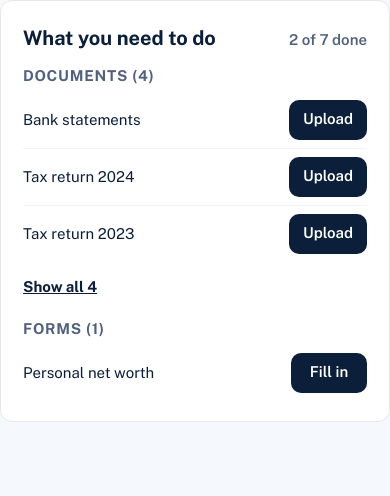
Test case: to-do on a phone › shows progress, then Documents and Forms with three of each until Show all
Expected: the text with test id "action-center-progress" reads "2 of 7 done", x1=289 y1=29 x2=367 y2=52
Expected: the element with test id "action-center-docs" shows "Documents (4)", x1=23 y1=65 x2=367 y2=306
What coordinates should you click on to do the following:
click the button "Show all 4"
I would click on:
 (60, 287)
Its box is x1=23 y1=268 x2=97 y2=306.
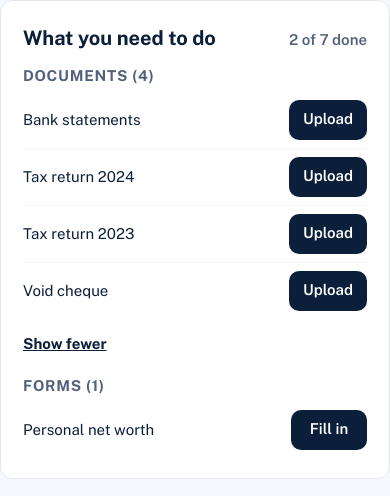
Expected: the element with test id "action-center-forms" shows "Personal net worth", x1=23 y1=421 x2=154 y2=438
Now the element with test id "action-center-docs" shows "Void cheque", box x1=23 y1=282 x2=108 y2=299
